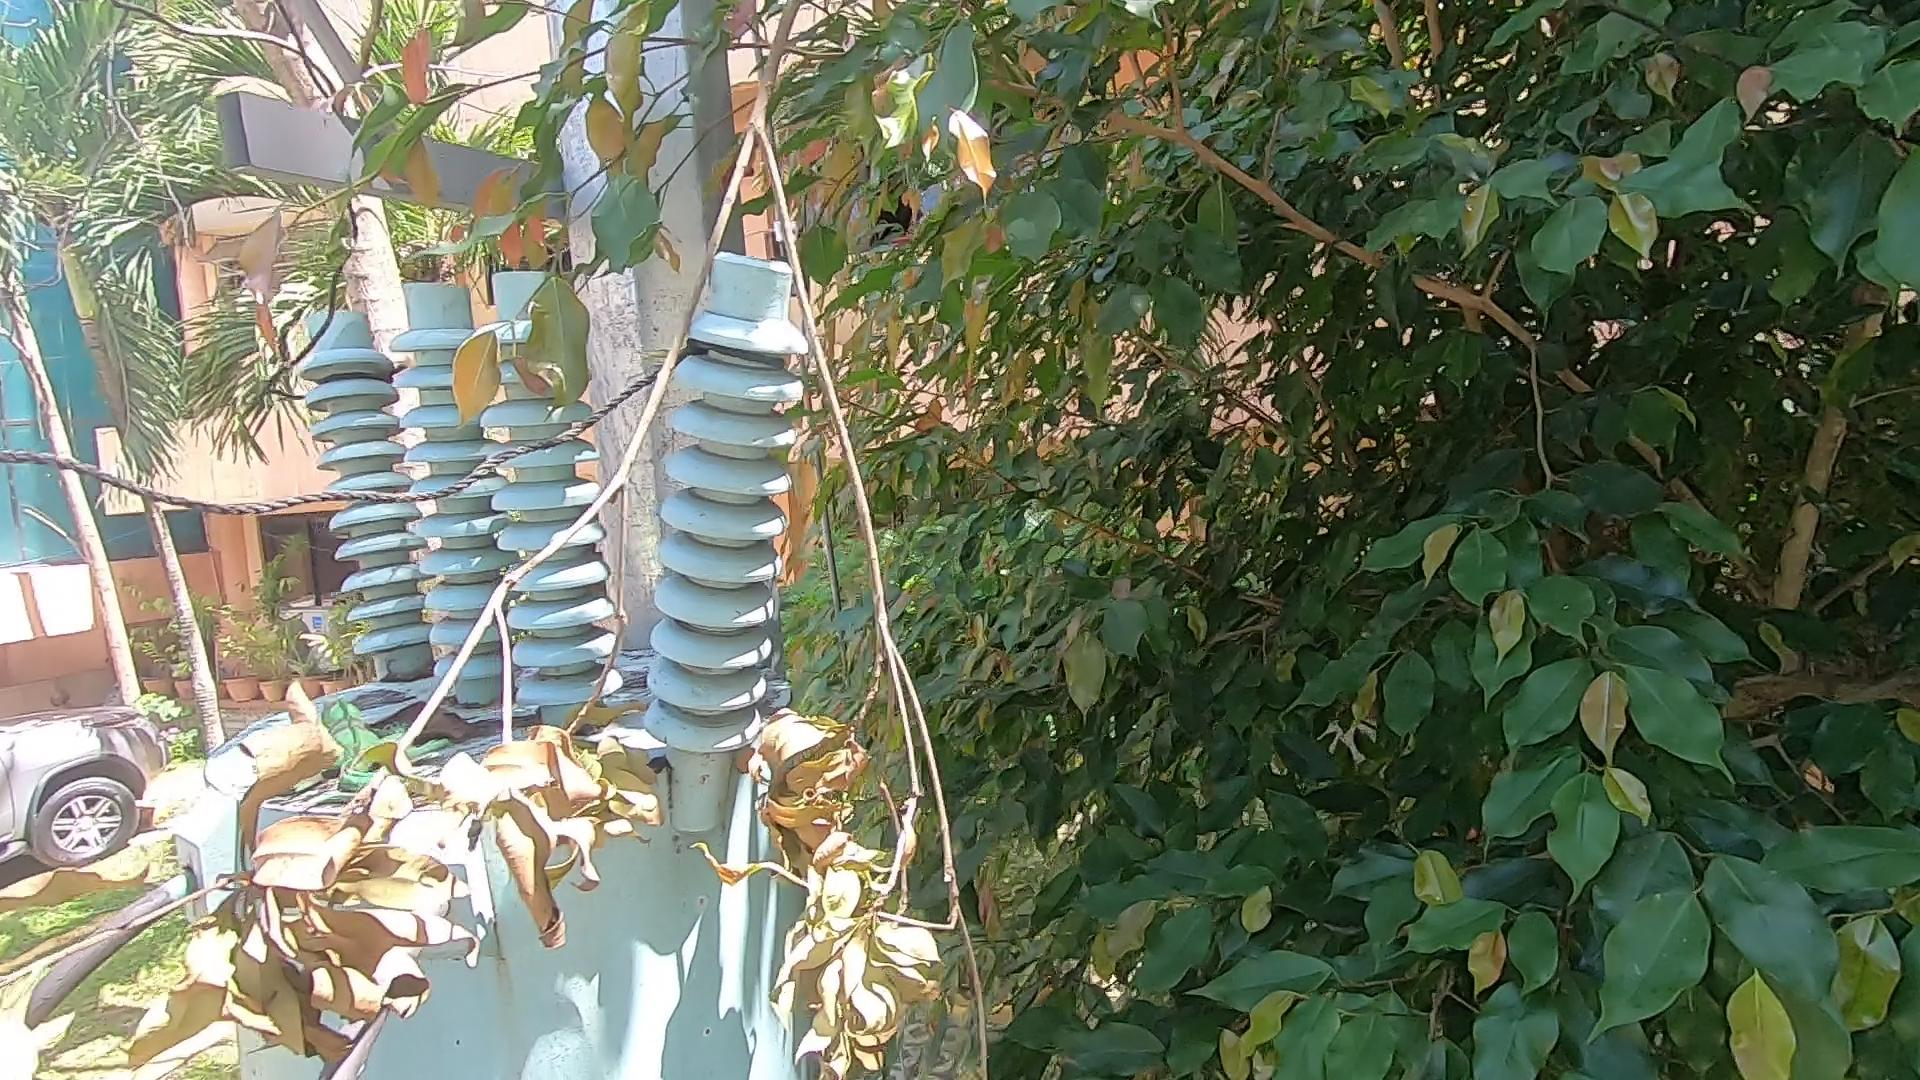branch with leaves: (65, 4, 1139, 1071)
leaf: (368, 696, 498, 745)
